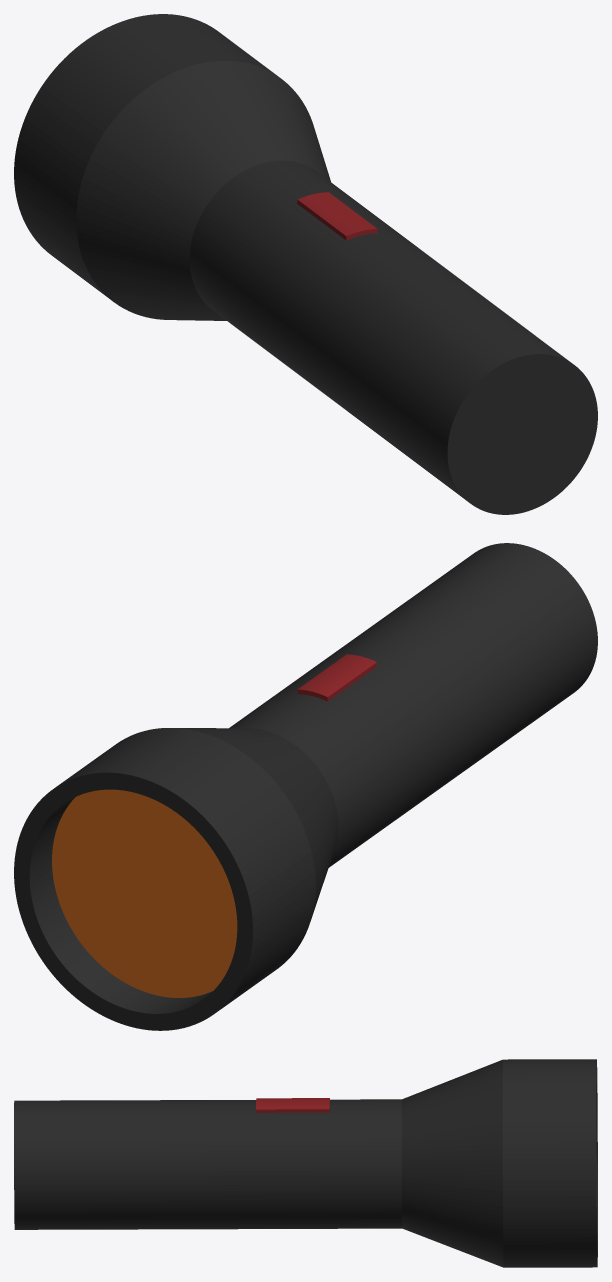
Rendered from Flashlight.fbx.
3 renders of one model, top to bottom at view 1: azimuth 30°, elevation 25°; view 2: azimuth 150°, elevation 25°; view 3: azimuth 270°, elevation 25°, orthographic. The views are drawn at different scales.
Visible parts, largest first — view 1: Цилиндр.001; view 2: Цилиндр.001; view 3: Цилиндр.001.
Part boxes in pixels (x1,y1,x2,y2): Цилиндр.001: [14, 14, 597, 514]; Цилиндр.001: [14, 543, 597, 1030]; Цилиндр.001: [14, 1059, 597, 1267].
Bounding box in the file's own units: 54.23 × 54.26 × 152.
